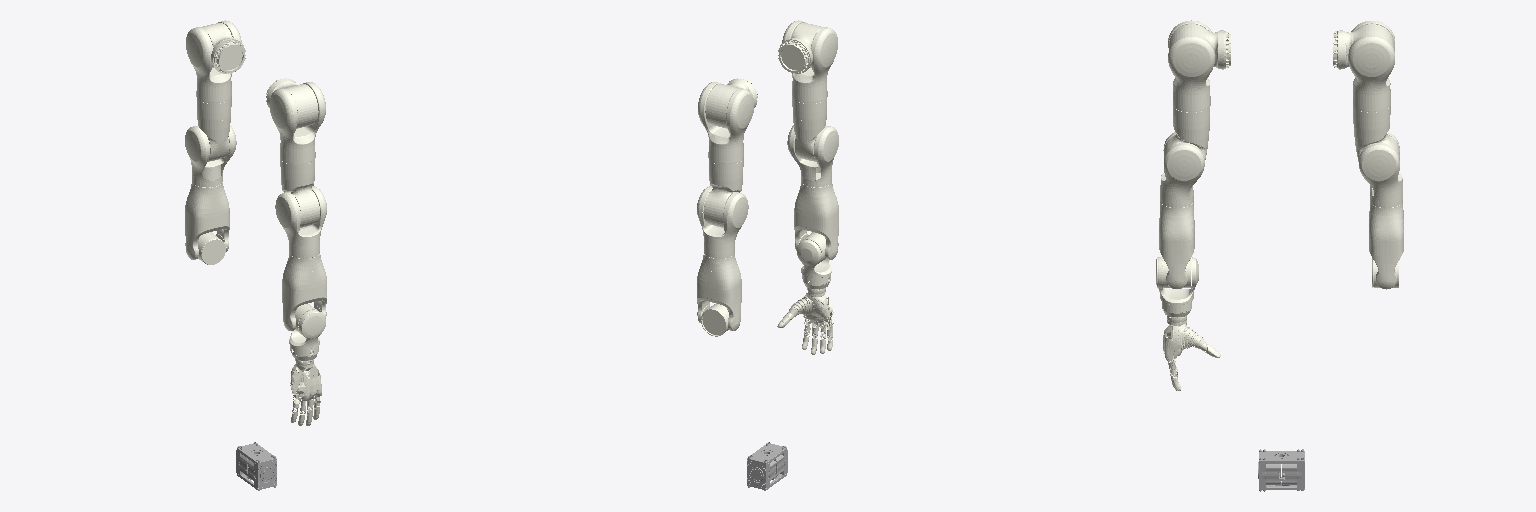
The robot description file, URDF, robot "AD02机器人04":
<?xml version="1.0" encoding="utf-8"?>
<!-- This URDF was automatically created by SolidWorks to URDF Exporter! Originally created by Stephen Brawner (brawner@gmail.com) 
     Commit Version: 1.6.0-4-g7f85cfe  Build Version: 1.6.7995.38578
     For more information, please see http://wiki.ros.org/sw_urdf_exporter -->
<robot
  name="AD02机器人04">
  <link
    name="base_link">
    <inertial>
      <origin
        xyz="-0.0234164533112336 0.00387313220275187 -0.0666280691299422"
        rpy="0 0 0" />
      <mass
        value="29.2325105307076" />
      <inertia
        ixx="0.441698581041442"
        ixy="0.000590943834402304"
        ixz="-0.000287873635985464"
        iyy="0.369999419468153"
        iyz="-0.00092249550930663"
        izz="0.494247648228508" />
    </inertial>
    <visual>
      <origin
        xyz="0 0 0"
        rpy="0 0 0" />
      <geometry>
        <mesh
          filename="meshes/AD02/base_link.STL" />
      </geometry>
      <material
        name="">
        <color
          rgba="0.752941176470588 0.752941176470588 0.752941176470588 1" />
      </material>
    </visual>
    <collision>
      <origin
        xyz="0 0 0"
        rpy="0 0 0" />
      <geometry>
        <mesh
          filename="meshes/AD02/base_link.STL" />
      </geometry>
    </collision>
  </link>
  <link
    name="Link1">
    <inertial>
      <origin
        xyz="0.00321248682727949 -0.260278893747259 -0.0318710507250483"
        rpy="0 0 0" />
      <mass
        value="5.68058769850182" />
      <inertia
        ixx="0.0689313337899808"
        ixy="-0.00505466613686011"
        ixz="3.37461402364377E-06"
        iyy="0.0184689554042125"
        iyz="-6.24441969702871E-05"
        izz="0.0639645837773799" />
    </inertial>
    <visual>
      <origin
        xyz="0 0 0"
        rpy="0 0 0" />
      <geometry>
        <mesh
          filename="meshes/AD02/Link1.STL" />
      </geometry>
      <material
        name="">
        <color
          rgba="0.752941176470588 0.752941176470588 0.752941176470588 1" />
      </material>
    </visual>
    <collision>
      <origin
        xyz="0 0 0"
        rpy="0 0 0" />
      <geometry>
        <mesh
          filename="meshes/AD02/Link1.STL" />
      </geometry>
    </collision>
  </link>
  <joint
    name="1"
    type="revolute">
    <origin
      xyz="0 0.036 0.76783"
      rpy="-1.5708 0 0" />
    <parent
      link="base_link" />
    <child
      link="Link1" />
    <axis
      xyz="0 0 1" />
    <limit
      lower="-0.175"
      upper="0.175"
      effort="0"
      velocity="0" />
  </joint>
  <link
    name="Link2">
    <inertial>
      <origin
        xyz="-0.00171293362061832 -2.26201202710441E-06 0.0730922273224303"
        rpy="0 0 0" />
      <mass
        value="0.801867295697304" />
      <inertia
        ixx="0.00194232374637555"
        ixy="-4.03454470973044E-08"
        ixz="3.07979032012143E-05"
        iyy="0.00162646793454831"
        iyz="-2.08870599596747E-08"
        izz="0.000858331493683855" />
    </inertial>
    <visual>
      <origin
        xyz="0 0 0"
        rpy="0 0 0" />
      <geometry>
        <mesh
          filename="meshes/AD02/Link2.STL" />
      </geometry>
      <material
        name="">
        <color
          rgba="1 1 0.945098039215686 1" />
      </material>
    </visual>
    <collision>
      <origin
        xyz="0 0 0"
        rpy="0 0 0" />
      <geometry>
        <mesh
          filename="meshes/AD02/Link2.STL" />
      </geometry>
    </collision>
  </link>
  <joint
    name="2"
    type="revolute">
    <origin
      xyz="-0.0028695 -0.32688 0.089"
      rpy="0 0 0" />
    <parent
      link="Link1" />
    <child
      link="Link2" />
    <axis
      xyz="0 0 1" />
    <limit
      lower="-3.053"
      upper="3.053"
      effort="0"
      velocity="0" />
  </joint>
  <link
    name="Link3">
    <inertial>
      <origin
        xyz="0.0477209055104448 -8.69988625668006E-07 0.0304879981261244"
        rpy="0 0 0" />
      <mass
        value="1.14646518401032" />
      <inertia
        ixx="0.00235186391152652"
        ixy="2.05710102286287E-08"
        ixz="-8.27338182861545E-05"
        iyy="0.00541252874124371"
        iyz="4.48561464327389E-08"
        izz="0.0045321592861651" />
    </inertial>
    <visual>
      <origin
        xyz="0 0 0"
        rpy="0 0 0" />
      <geometry>
        <mesh
          filename="meshes/AD02/Link3.STL" />
      </geometry>
      <material
        name="">
        <color
          rgba="1 1 0.945098039215686 1" />
      </material>
    </visual>
    <collision>
      <origin
        xyz="0 0 0"
        rpy="0 0 0" />
      <geometry>
        <mesh
          filename="meshes/AD02/Link3.STL" />
      </geometry>
    </collision>
  </link>
  <joint
    name="3"
    type="revolute">
    <origin
      xyz="0.032 0 0.0955"
      rpy="-1.5708 0 1.5708" />
    <parent
      link="Link2" />
    <child
      link="Link3" />
    <axis
      xyz="0 0 1" />
    <limit
      lower="-3.14"
      upper="0"
      effort="0"
      velocity="0" />
  </joint>
  <link
    name="Link4">
    <inertial>
      <origin
        xyz="0.00584926086665824 -0.000902738934462773 -0.0821673199747881"
        rpy="0 0 0" />
      <mass
        value="1.04280873574369" />
      <inertia
        ixx="0.00153240627439392"
        ixy="8.61489720865884E-06"
        ixz="0.000210638388831262"
        iyy="0.00179818456198805"
        iyz="-2.46241332020247E-05"
        izz="0.00106688212203793" />
    </inertial>
    <visual>
      <origin
        xyz="0 0 0"
        rpy="0 0 0" />
      <geometry>
        <mesh
          filename="meshes/AD02/Link4.STL" />
      </geometry>
      <material
        name="">
        <color
          rgba="1 1 0.945098039215686 1" />
      </material>
    </visual>
    <collision>
      <origin
        xyz="0 0 0"
        rpy="0 0 0" />
      <geometry>
        <mesh
          filename="meshes/AD02/Link4.STL" />
      </geometry>
    </collision>
  </link>
  <joint
    name="4"
    type="revolute">
    <origin
      xyz="0.148 0 0.032"
      rpy="1.5708 0 -1.5708" />
    <parent
      link="Link3" />
    <child
      link="Link4" />
    <axis
      xyz="0 0 1" />
    <limit
      lower="-3.053"
      upper="3.053"
      effort="0"
      velocity="0" />
  </joint>
  <link
    name="Link5">
    <inertial>
      <origin
        xyz="0.0373962249418673 0.0077614191715108 0.00156941075427813"
        rpy="0 0 0" />
      <mass
        value="0.800867865532078" />
      <inertia
        ixx="0.00143747142472266"
        ixy="-0.000282098873901091"
        ixz="4.70057665078915E-05"
        iyy="0.00270599113759029"
        iyz="9.7791195637761E-06"
        izz="0.00221880409070191" />
    </inertial>
    <visual>
      <origin
        xyz="0 0 0"
        rpy="0 0 0" />
      <geometry>
        <mesh
          filename="meshes/AD02/Link5.STL" />
      </geometry>
      <material
        name="">
        <color
          rgba="1 1 0.945098039215686 1" />
      </material>
    </visual>
    <collision>
      <origin
        xyz="0 0 0"
        rpy="0 0 0" />
      <geometry>
        <mesh
          filename="meshes/AD02/Link5.STL" />
      </geometry>
    </collision>
  </link>
  <joint
    name="5"
    type="revolute">
    <origin
      xyz="0.018 0 -0.139"
      rpy="1.5708 1.5708 0" />
    <parent
      link="Link4" />
    <child
      link="Link5" />
    <axis
      xyz="0 0 -1" />
    <limit
      lower="-2.0933"
      upper="0"
      effort="0"
      velocity="0" />
  </joint>
  <link
    name="Link6">
    <inertial>
      <origin
        xyz="-0.217383391847458 0.0129069215512041 -0.419395788938219"
        rpy="0 0 0" />
      <mass
        value="43.8650970770087" />
      <inertia
        ixx="13.1863094503937"
        ixy="0.000262108797177079"
        ixz="0.0536874621801413"
        iyy="13.5598175935821"
        iyz="0.301719720360207"
        izz="1.54826485010175" />
    </inertial>
    <visual>
      <origin
        xyz="0 0 0"
        rpy="0 0 0" />
      <geometry>
        <mesh
          filename="meshes/AD02/Link6.STL" />
      </geometry>
      <material
        name="">
        <color
          rgba="1 1 0.945098039215686 1" />
      </material>
    </visual>
    <collision>
      <origin
        xyz="0 0 0"
        rpy="0 0 0" />
      <geometry>
        <mesh
          filename="meshes/AD02/Link6.STL" />
      </geometry>
    </collision>
  </link>
  <joint
    name="6"
    type="revolute">
    <origin
      xyz="0.121 0.018 0"
      rpy="1.5708 0 -1.5708" />
    <parent
      link="Link5" />
    <child
      link="Link6" />
    <axis
      xyz="0 0 -1" />
    <limit
      lower="-3.053"
      upper="3.053"
      effort="0"
      velocity="0" />
  </joint>
  <link
    name="Link7">
    <inertial>
      <origin
        xyz="-1.3285273353647E-07 0.00404906146983086 -2.36131328418439E-08"
        rpy="0 0 0" />
      <mass
        value="0.286158774102111" />
      <inertia
        ixx="0.000201989753594716"
        ixy="-8.63301825226087E-10"
        ixz="-4.6114943798008E-10"
        iyy="0.000217453016133978"
        iyz="-9.50910502937975E-11"
        izz="0.00018866126853715" />
    </inertial>
    <visual>
      <origin
        xyz="0 0 0"
        rpy="0 0 0" />
      <geometry>
        <mesh
          filename="meshes/AD02/Link7.STL" />
      </geometry>
      <material
        name="">
        <color
          rgba="1 1 0.945098039215686 1" />
      </material>
    </visual>
    <collision>
      <origin
        xyz="0 0 0"
        rpy="0 0 0" />
      <geometry>
        <mesh
          filename="meshes/AD02/Link7.STL" />
      </geometry>
    </collision>
  </link>
  <joint
    name="7"
    type="revolute">
    <origin
      xyz="0 0 -0.193"
      rpy="1.5708 1.5708 0" />
    <parent
      link="Link6" />
    <child
      link="Link7" />
    <axis
      xyz="0 0 1" />
    <limit
      lower="-1.57"
      upper="1.57"
      effort="0"
      velocity="0" />
  </joint>
  <link
    name="Link8">
    <inertial>
      <origin
        xyz="3.69358204713763E-05 0.0450108902556502 0.00463263256669016"
        rpy="0 0 0" />
      <mass
        value="0.39616496205306" />
      <inertia
        ixx="0.000870836855652977"
        ixy="-9.39380441802918E-07"
        ixz="6.13187071504448E-08"
        iyy="0.000471452502698016"
        iyz="3.81235930968334E-05"
        izz="0.000659202607536536" />
    </inertial>
    <visual>
      <origin
        xyz="0 0 0"
        rpy="0 0 0" />
      <geometry>
        <mesh
          filename="meshes/AD02/Link8.STL" />
      </geometry>
      <material
        name="">
        <color
          rgba="1 1 0.945098039215686 1" />
      </material>
    </visual>
    <collision>
      <origin
        xyz="0 0 0"
        rpy="0 0 0" />
      <geometry>
        <mesh
          filename="meshes/AD02/Link8.STL" />
      </geometry>
    </collision>
  </link>
  <joint
    name="8"
    type="revolute">
    <origin
      xyz="0 0 0"
      rpy="1.5708 1.5708 0" />
    <parent
      link="Link7" />
    <child
      link="Link8" />
    <axis
      xyz="0 0 1" />
    <limit
      lower="-1.57"
      upper="1.57"
      effort="0"
      velocity="0" />
  </joint>
  <link
    name="Link9">
    <inertial>
      <origin
        xyz="0.00171151753700902 2.25908242661166E-06 0.0730374462728161"
        rpy="0 0 0" />
      <mass
        value="0.802531806622368" />
      <inertia
        ixx="0.00194583132107833"
        ixy="-4.03690232309419E-08"
        ixz="-3.08732913833756E-05"
        iyy="0.00162997776422411"
        iyz="2.1144107796933E-08"
        izz="0.000859534411738723" />
    </inertial>
    <visual>
      <origin
        xyz="0 0 0"
        rpy="0 0 0" />
      <geometry>
        <mesh
          filename="meshes/AD02/Link9.STL" />
      </geometry>
      <material
        name="">
        <color
          rgba="1 1 0.945098039215686 1" />
      </material>
    </visual>
    <collision>
      <origin
        xyz="0 0 0"
        rpy="0 0 0" />
      <geometry>
        <mesh
          filename="meshes/AD02/Link9.STL" />
      </geometry>
    </collision>
  </link>
  <joint
    name="9"
    type="revolute">
    <origin
      xyz="-0.00286953358882007 -0.32688142157077 -0.161"
      rpy="3.14159265358979 0 0" />
    <parent
      link="Link1" />
    <child
      link="Link9" />
    <axis
      xyz="0 0 1" />
    <limit
      lower="-3.053"
      upper="3.053"
      effort="0"
      velocity="0" />
  </joint>
  <link
    name="Link10">
    <inertial>
      <origin
        xyz="0.047720764134424 9.40884679972998E-07 0.0340119023207608"
        rpy="0 0 0" />
      <mass
        value="1.14646320811672" />
      <inertia
        ixx="0.00235185666838982"
        ixy="-1.34741081670613E-08"
        ixz="8.27314917325054E-05"
        iyy="0.00541253073360901"
        iyz="5.10754846499964E-08"
        izz="0.00453216292037588" />
    </inertial>
    <visual>
      <origin
        xyz="0 0 0"
        rpy="0 0 0" />
      <geometry>
        <mesh
          filename="meshes/AD02/Link10.STL" />
      </geometry>
      <material
        name="">
        <color
          rgba="1 1 0.945098039215686 1" />
      </material>
    </visual>
    <collision>
      <origin
        xyz="0 0 0"
        rpy="0 0 0" />
      <geometry>
        <mesh
          filename="meshes/AD02/Link10.STL" />
      </geometry>
    </collision>
  </link>
  <joint
    name="10"
    type="revolute">
    <origin
      xyz="0.0325 0 0.0955"
      rpy="1.5708 0 -1.5708" />
    <parent
      link="Link9" />
    <child
      link="Link10" />
    <axis
      xyz="0 0 -1" />
    <limit
      lower="-3.14"
      upper="0"
      effort="0"
      velocity="0" />
  </joint>
  <link
    name="Link11">
    <inertial>
      <origin
        xyz="-0.00584926078995507 0.000902738930002393 -0.0821673203205975"
        rpy="0 0 0" />
      <mass
        value="1.04280874101177" />
      <inertia
        ixx="0.00153240628622412"
        ixy="8.6148973394217E-06"
        ixz="-0.000210638383693707"
        iyy="0.0017981845759719"
        iyz="2.46241332101321E-05"
        izz="0.00106688212534245" />
    </inertial>
    <visual>
      <origin
        xyz="0 0 0"
        rpy="0 0 0" />
      <geometry>
        <mesh
          filename="meshes/AD02/Link11.STL" />
      </geometry>
      <material
        name="">
        <color
          rgba="1 1 0.945098039215686 1" />
      </material>
    </visual>
    <collision>
      <origin
        xyz="0 0 0"
        rpy="0 0 0" />
      <geometry>
        <mesh
          filename="meshes/AD02/Link11.STL" />
      </geometry>
    </collision>
  </link>
  <joint
    name="11"
    type="revolute">
    <origin
      xyz="0.148 0 0.0325"
      rpy="1.5708 0 -1.5708" />
    <parent
      link="Link10" />
    <child
      link="Link11" />
    <axis
      xyz="0 0 1" />
    <limit
      lower="-3.053"
      upper="3.053"
      effort="0"
      velocity="0" />
  </joint>
  <link
    name="Link12">
    <inertial>
      <origin
        xyz="0.0373962252160718 -0.00776137157643 -0.00156939985400479"
        rpy="0 0 0" />
      <mass
        value="0.800867111050277" />
      <inertia
        ixx="0.00143747003557225"
        ixy="0.000282096132309836"
        ixz="-4.70051648501037E-05"
        iyy="0.00270598524853337"
        iyz="9.77983480307315E-06"
        izz="0.0022188033364158" />
    </inertial>
    <visual>
      <origin
        xyz="0 0 0"
        rpy="0 0 0" />
      <geometry>
        <mesh
          filename="meshes/AD02/Link12.STL" />
      </geometry>
      <material
        name="">
        <color
          rgba="1 1 0.945098039215686 1" />
      </material>
    </visual>
    <collision>
      <origin
        xyz="0 0 0"
        rpy="0 0 0" />
      <geometry>
        <mesh
          filename="meshes/AD02/Link12.STL" />
      </geometry>
    </collision>
  </link>
  <joint
    name="12"
    type="revolute">
    <origin
      xyz="-0.018 0 -0.139"
      rpy="1.5708 1.5708 0" />
    <parent
      link="Link11" />
    <child
      link="Link12" />
    <axis
      xyz="0 0 1" />
    <limit
      lower="-2.093"
      upper="0"
      effort="0"
      velocity="0" />
  </joint>
  <link
    name="Link13">
    <inertial>
      <origin
        xyz="0.223616608152574 0.0129069215511908 -0.419395788938118"
        rpy="0 0 0" />
      <mass
        value="43.8650970770087" />
      <inertia
        ixx="13.1863094503937"
        ixy="0.000262108797177079"
        ixz="0.0536874621801413"
        iyy="13.5598175935821"
        iyz="0.301719720360207"
        izz="1.54826485010175" />
    </inertial>
    <visual>
      <origin
        xyz="0 0 0"
        rpy="0 0 0" />
      <geometry>
        <mesh
          filename="meshes/AD02/Link13.STL" />
      </geometry>
      <material
        name="">
        <color
          rgba="1 1 0.945098039215686 1" />
      </material>
    </visual>
    <collision>
      <origin
        xyz="0 0 0"
        rpy="0 0 0" />
      <geometry>
        <mesh
          filename="meshes/AD02/Link13.STL" />
      </geometry>
    </collision>
  </link>
  <joint
    name="13"
    type="revolute">
    <origin
      xyz="0.121 -0.018 0"
      rpy="1.5708 0 -1.5708" />
    <parent
      link="Link12" />
    <child
      link="Link13" />
    <axis
      xyz="0 0 1" />
    <limit
      lower="-3.053"
      upper="3.053"
      effort="0"
      velocity="0" />
  </joint>
  <link
    name="Link14">
    <inertial>
      <origin
        xyz="-1.32843394728965E-07 -0.00404906148963369 2.36358123932232E-08"
        rpy="0 0 0" />
      <mass
        value="0.286158773937881" />
      <inertia
        ixx="0.000201989753164986"
        ixy="8.63401410536416E-10"
        ixz="4.61320888388479E-10"
        iyy="0.000217453015994363"
        iyz="-9.5238147245192E-11"
        izz="0.000188661268473879" />
    </inertial>
    <visual>
      <origin
        xyz="0 0 0"
        rpy="0 0 0" />
      <geometry>
        <mesh
          filename="meshes/AD02/Link14.STL" />
      </geometry>
      <material
        name="">
        <color
          rgba="1 1 0.945098039215686 1" />
      </material>
    </visual>
    <collision>
      <origin
        xyz="0 0 0"
        rpy="0 0 0" />
      <geometry>
        <mesh
          filename="meshes/AD02/Link14.STL" />
      </geometry>
    </collision>
  </link>
  <joint
    name="14"
    type="revolute">
    <origin
      xyz="0 0 -0.193"
      rpy="1.5708 1.5708 0" />
    <parent
      link="Link13" />
    <child
      link="Link14" />
    <axis
      xyz="0 0 -1" />
    <limit
      lower="-1.57"
      upper="1.57"
      effort="0"
      velocity="0" />
  </joint>
  <link
    name="Link15">
    <inertial>
      <origin
        xyz="3.74241732394973E-05 0.0450164862355756 -0.00446552935148312"
        rpy="0 0 0" />
      <mass
        value="0.396221793537292" />
      <inertia
        ixx="0.000871024269171989"
        ixy="-1.0212287163222E-06"
        ixz="-6.83152892109059E-08"
        iyy="0.000471639161011821"
        iyz="-3.98835066149666E-05"
        izz="0.000659207088720662" />
    </inertial>
    <visual>
      <origin
        xyz="0 0 0"
        rpy="0 0 0" />
      <geometry>
        <mesh
          filename="meshes/AD02/Link15.STL" />
      </geometry>
      <material
        name="">
        <color
          rgba="1 1 0.945098039215686 1" />
      </material>
    </visual>
    <collision>
      <origin
        xyz="0 0 0"
        rpy="0 0 0" />
      <geometry>
        <mesh
          filename="meshes/AD02/Link15.STL" />
      </geometry>
    </collision>
  </link>
  <joint
    name="15"
    type="revolute">
    <origin
      xyz="0 0 0"
      rpy="1.5708 1.5708 0" />
    <parent
      link="Link14" />
    <child
      link="Link15" />
    <axis
      xyz="0 0 1" />
    <limit
      lower="-1.57"
      upper="1.57"
      effort="0"
      velocity="0" />
  </joint>
</robot>

--- What the picture shows (computed from the rendered views, not written in the file) ---
Views: 3 orthographic renders of the robot side by side, from view 1: azimuth 30°, elevation 25°; view 2: azimuth 150°, elevation 25°; view 3: azimuth 270°, elevation 25°.
Robot: AD02机器人04 — 16 links, 15 joints (15 revolute); root link base_link; default pose: all joints at 0.
Visible links, largest first — view 1: Link15, Link10, Link6, Link13, Link3, Link12, Link5, Link11, base_link, Link4, Link2, Link9 (+1 smaller); view 2: Link15, Link3, Link13, Link6, Link10, Link5, Link12, Link4, base_link, Link11, Link9, Link2 (+1 smaller); view 3: Link3, Link10, Link15, Link13, Link6, Link12, Link5, base_link, Link4, Link11, Link9, Link2.
Link boxes in pixels (x1,y1,x2,y2): Link15: [289, 310, 325, 425]; Link10: [270, 82, 325, 164]; Link6: [185, 182, 229, 259]; Link13: [282, 254, 326, 330]; Link3: [186, 20, 241, 103]; Link12: [275, 186, 326, 258]; Link5: [185, 125, 236, 187]; Link11: [280, 159, 319, 227]; base_link: [236, 442, 276, 490]; Link4: [197, 98, 231, 161]; Link2: [201, 23, 245, 73]; Link9: [266, 78, 318, 128]; Link15: [777, 240, 833, 354]; Link3: [698, 82, 753, 164]; Link13: [794, 173, 838, 259]; Link6: [697, 254, 741, 330]; Link10: [782, 20, 837, 103]; Link5: [697, 186, 748, 258]; Link12: [787, 125, 838, 187]; Link4: [704, 159, 743, 227]; base_link: [747, 442, 787, 490]; Link11: [792, 98, 826, 161]; Link9: [778, 23, 822, 73]; Link2: [705, 78, 757, 128]; Link3: [1348, 21, 1394, 112]; Link10: [1168, 20, 1214, 112]; Link15: [1156, 257, 1220, 390]; Link13: [1159, 202, 1194, 288]; Link6: [1369, 195, 1403, 289]; Link12: [1160, 132, 1204, 207]; Link5: [1359, 132, 1402, 207]; base_link: [1258, 449, 1304, 491]; Link4: [1353, 106, 1399, 161]; Link11: [1164, 107, 1209, 159]; Link9: [1169, 24, 1230, 69]; Link2: [1333, 24, 1394, 69].
Size in the robot's own frame: 0.1271 by 0.6095 by 1.24 metres.
Meshes: 16 distinct files referenced, 14 mesh visuals loaded (14 binary STL); not drawn: 2 (reference not matched to a file when rendering).
